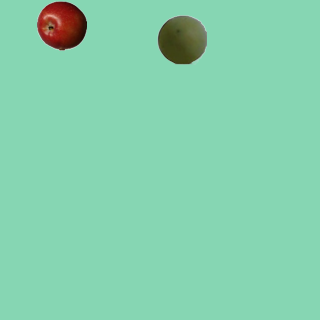Apple Braeburn: (36, 0, 86, 50)
Grape White 4: (156, 14, 206, 64)
